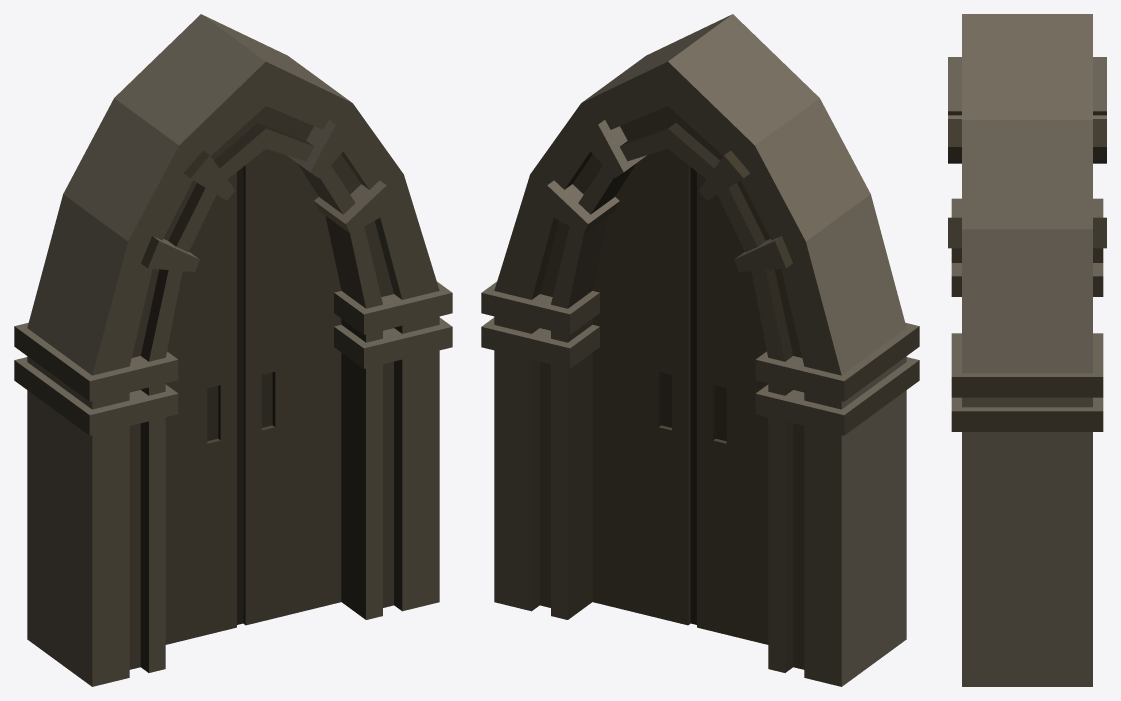
The model's file is SF_Bld_Undead_Castle_Gate_01.fbx.
3 renders of one model, left to right at view 1: azimuth 30°, elevation 25°; view 2: azimuth 150°, elevation 25°; view 3: azimuth 270°, elevation 25°, orthographic.
Parts seen in each view (by area): view 1: SF_Bld_Undead_Castle_Gate_01, SF_Bld_Undead_Castle_GateR, SF_Bld_Undead_Castle_GateL; view 2: SF_Bld_Undead_Castle_Gate_01, SF_Bld_Undead_Castle_GateR, SF_Bld_Undead_Castle_GateL; view 3: SF_Bld_Undead_Castle_Gate_01.
Boxes of the visible parts, bbox=[...] form: SF_Bld_Undead_Castle_Gate_01: bbox=[14, 14, 452, 686]; SF_Bld_Undead_Castle_GateR: bbox=[238, 149, 341, 625]; SF_Bld_Undead_Castle_GateL: bbox=[165, 171, 238, 644]; SF_Bld_Undead_Castle_Gate_01: bbox=[481, 14, 919, 686]; SF_Bld_Undead_Castle_GateR: bbox=[592, 149, 695, 625]; SF_Bld_Undead_Castle_GateL: bbox=[695, 171, 768, 644]; SF_Bld_Undead_Castle_Gate_01: bbox=[948, 14, 1106, 686].
Bounding box in the file's own units: 18.5 × 28.41 × 6.96.
